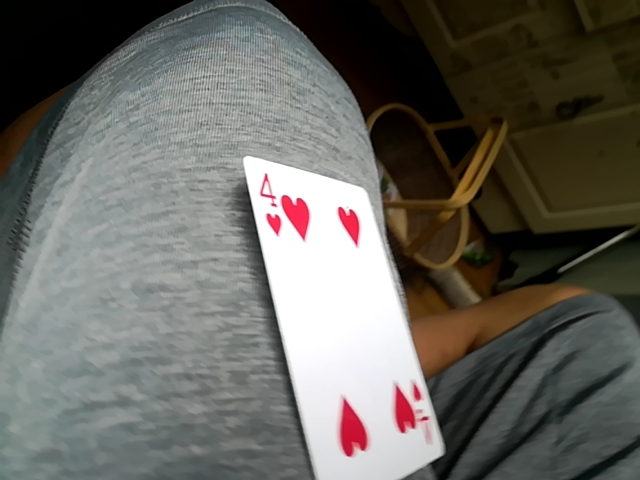hx 4: (237, 155, 435, 476)
